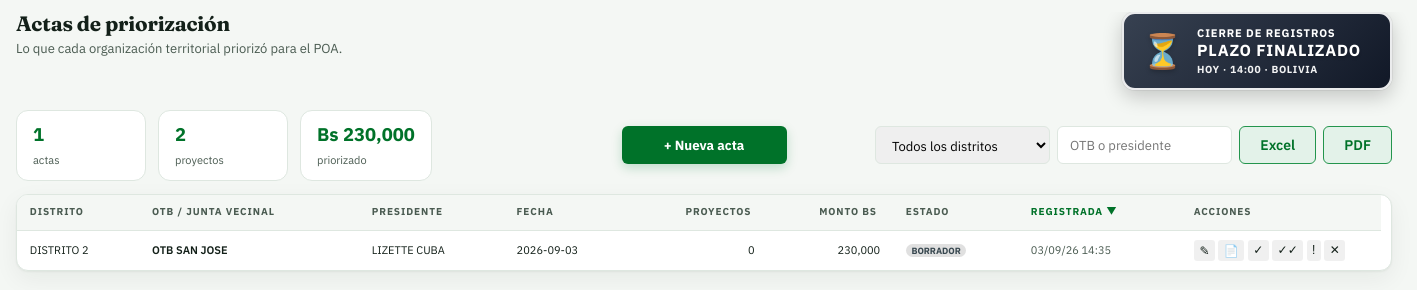
Test: ActasListadoComponent · orden del listado › el segundo click sobre la misma columna invierte el sentido
Click the column heading with class "ordenable" showing "Presidente": (431,213) [359,195,504,231]
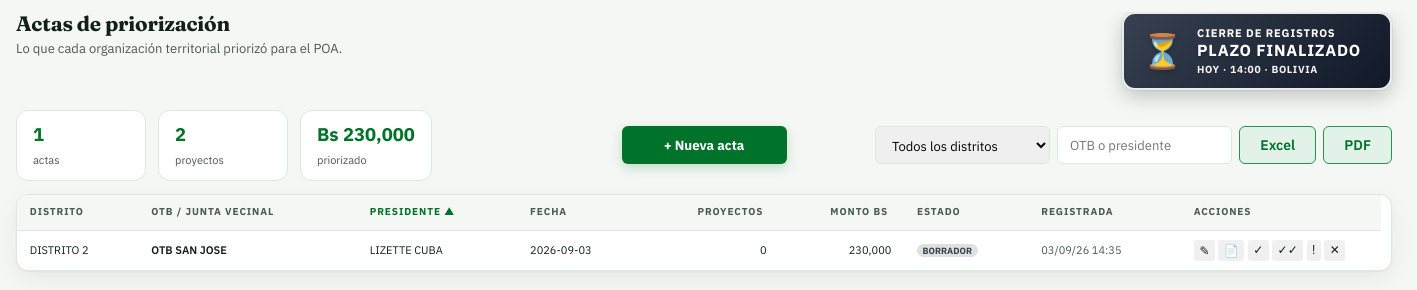
Click the column heading with class "ordenable" showing "Presidente▲": (437,213) [357,195,517,231]
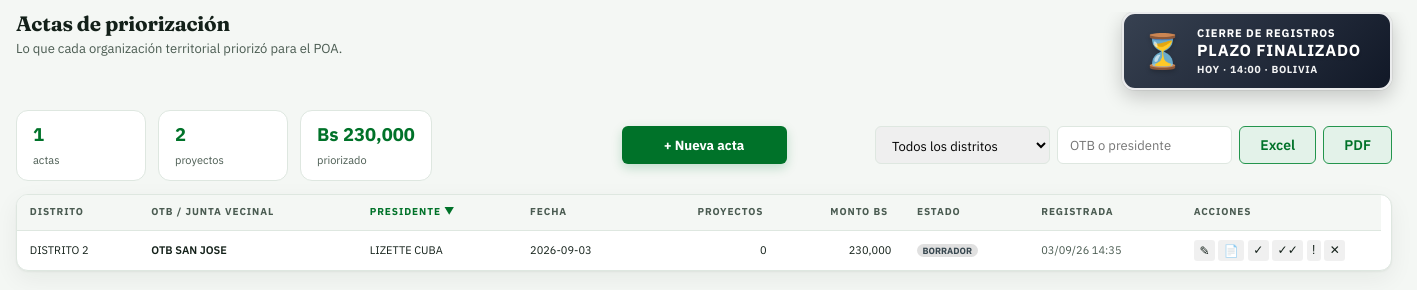
Check: the column heading with class "ordenable" shows "▼", box [444,206,455,218]
